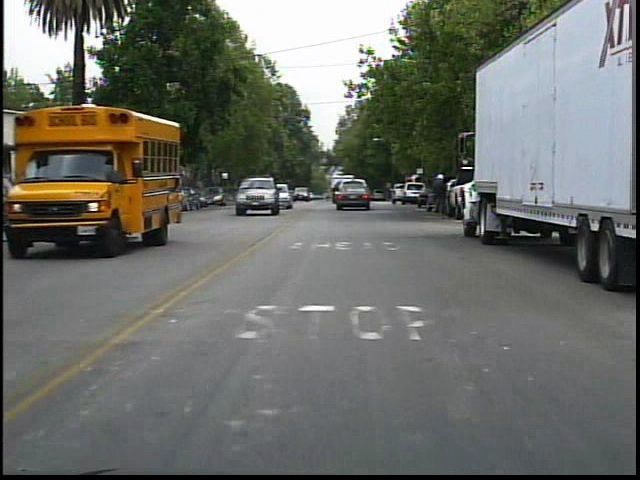person: (428, 170, 452, 220)
